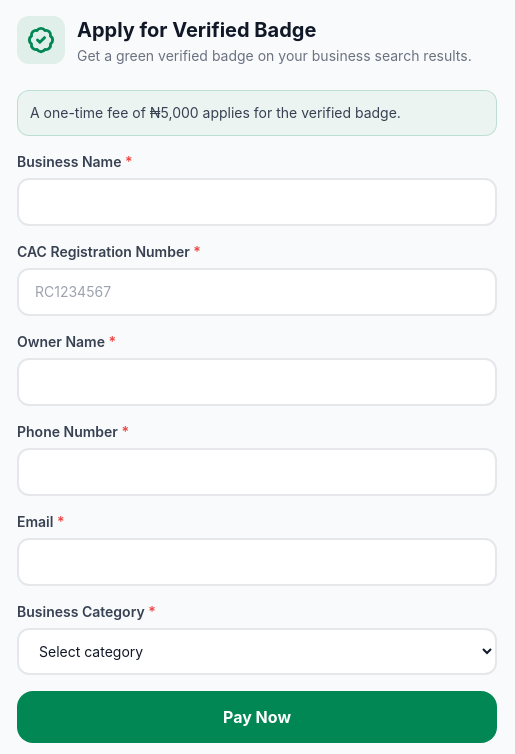
BusinessVerifyPage › rejects an invalid CAC number before touching the backend
The image size is (515, 754).
In the field below "Business Name": (257, 202) x1=17 y1=178 x2=497 y2=226, type "Honest Stores"
In the field with placeholder "RC1234567": (257, 292) x1=17 y1=268 x2=497 y2=316, type "XX12"
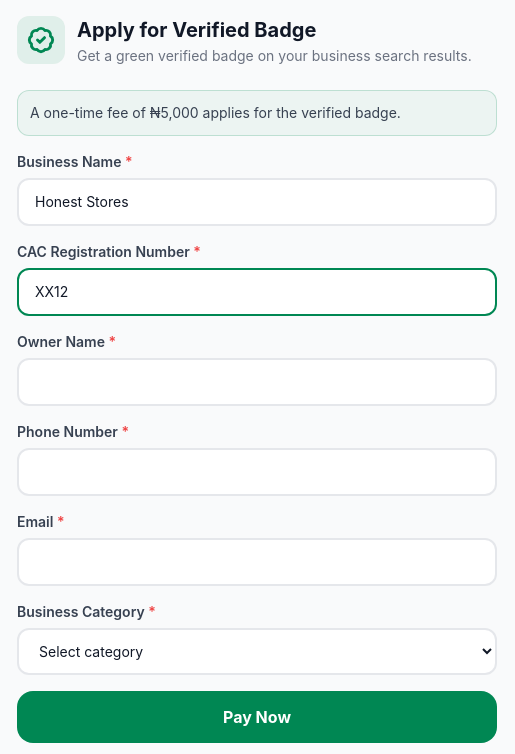
In the field below "Owner Name": (257, 382) x1=17 y1=358 x2=497 y2=406, type "Ada Obi"
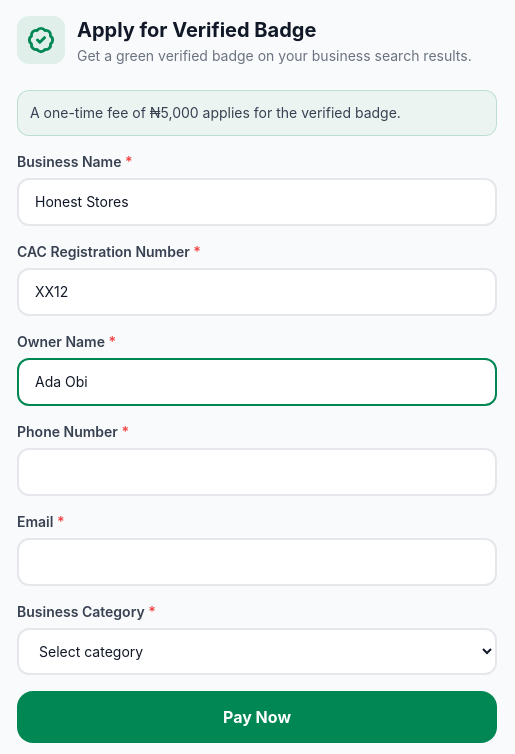
In the field below "Phone Number": (257, 472) x1=17 y1=448 x2=497 y2=496, type "08031234567"
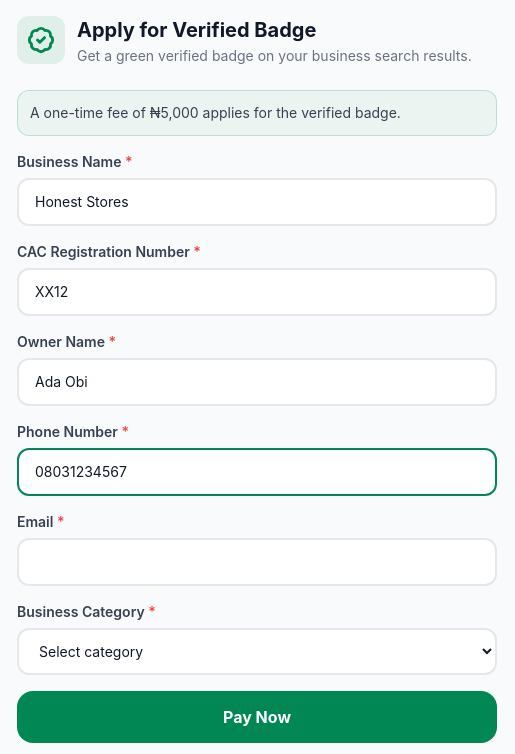
In the field below "Email": (257, 562) x1=17 y1=538 x2=497 y2=586, type "ada@honest.ng"
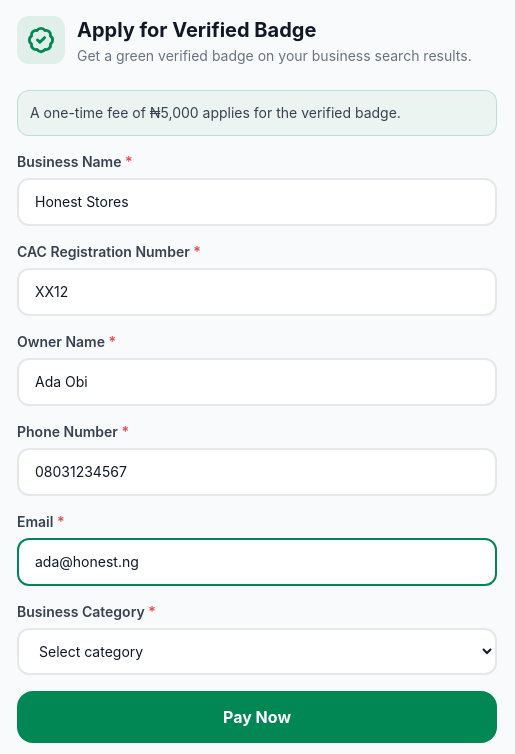
Select "General Trading" in the dropdown: (257, 652) x1=17 y1=628 x2=497 y2=675
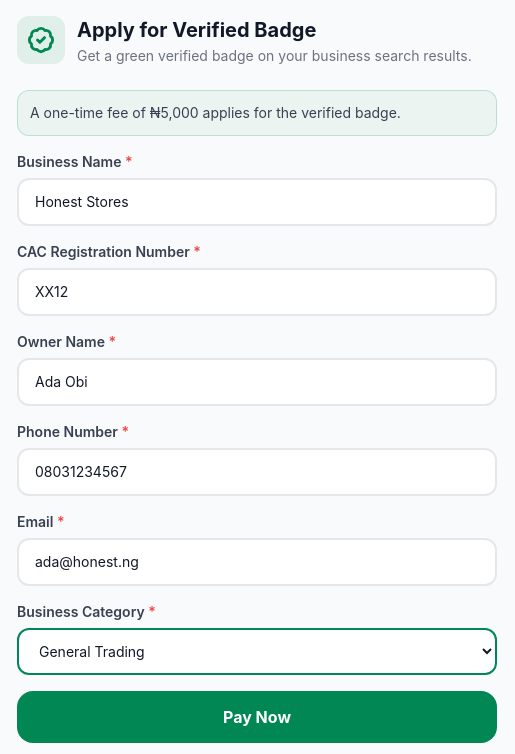
Click the button "Pay Now": (257, 717) x1=17 y1=691 x2=497 y2=743
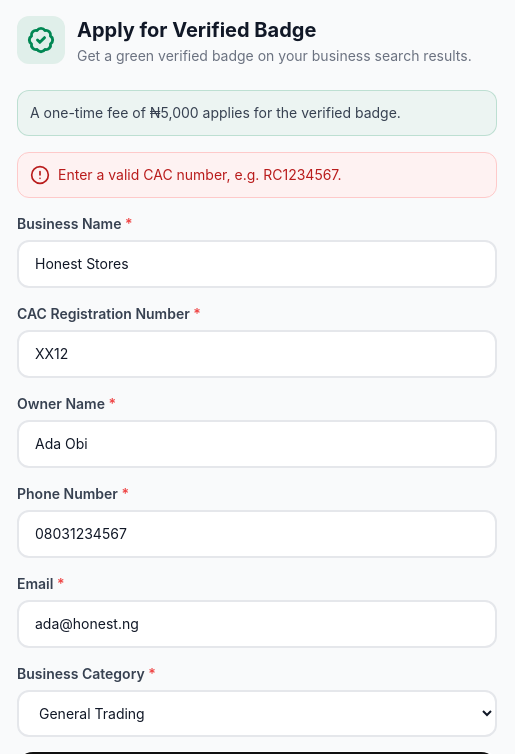
Now the text "Enter a valid CAC number, e.g. RC1234567." is shown, box x1=17 y1=152 x2=497 y2=198
